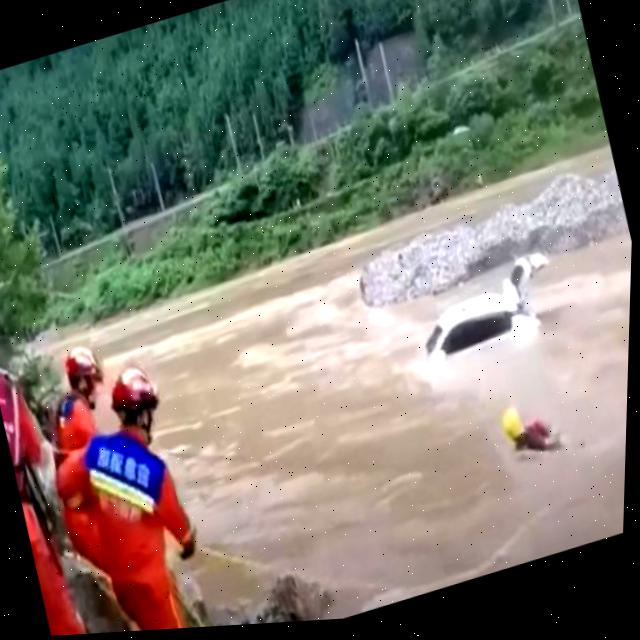rescuer: (29, 338, 242, 637), (0, 248, 147, 640), (12, 311, 143, 497), (473, 379, 589, 497)
